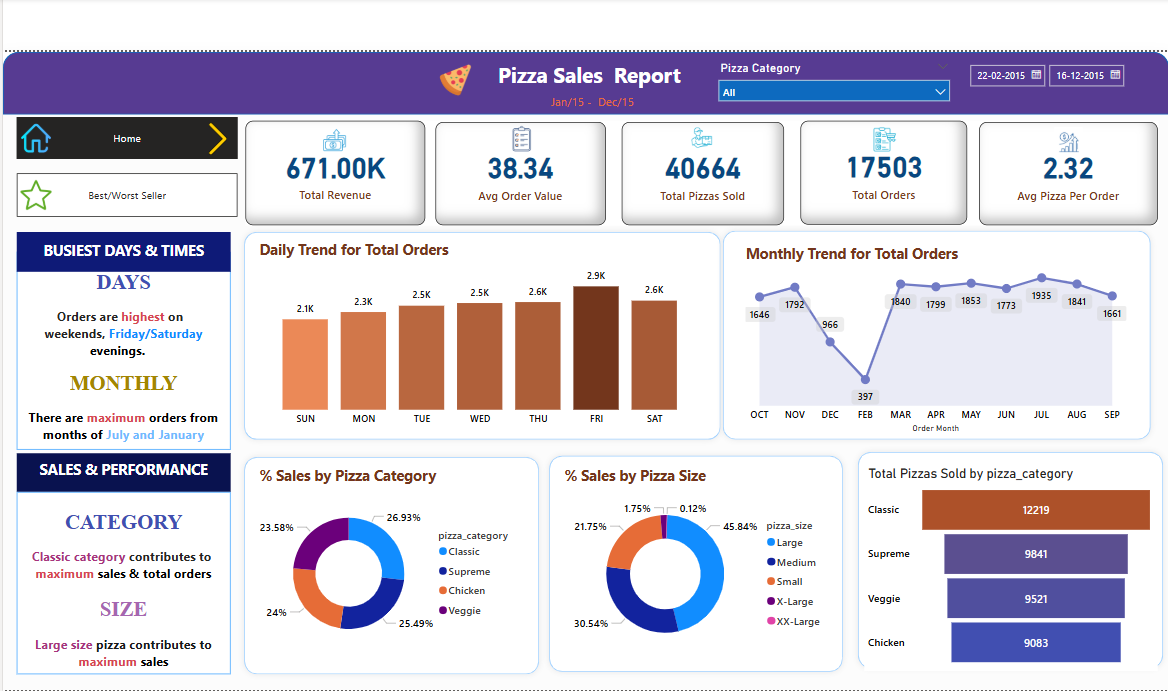

What the dashboard file says about the page in this screenshot:
{"tool":"powerbi","page":{"name":"Home","canvas":[1500,820],"ordinal":0},"visuals":[{"type":"card","fields":{"Values":["pizza_sales.Total Revenue"]},"box":[312,89,231.4,134.5],"z":0,"group":"g1"},{"type":"group","id":"g1","title":"Group 1","box":[312,88.4,1173.9,135.1],"z":0},{"type":"shape","box":[0,0,1500.3,80.4],"z":1000},{"type":"card","fields":{"Values":["pizza_sales.Avg Order Value"]},"box":[556.9,89.4,219.2,133],"z":1000,"group":"g1"},{"type":"card","fields":{"Values":["pizza_sales.Total Pizzas Sold"]},"box":[796.4,89.4,209,133],"z":2000,"group":"g1"},{"type":"image","box":[395.6,91.7,62.7,43.4],"z":2000},{"type":"card","fields":{"Values":["pizza_sales.Avg Pizza Per Order"]},"box":[1256.6,89.4,229.3,133],"z":3000,"group":"g1"},{"type":"image","box":[1104.7,91.7,59.5,41.8],"z":3000},{"type":"card","fields":{"Values":["pizza_sales.Total Orders"]},"box":[1026.6,88.4,214.4,133.6],"z":4000,"group":"g1"},{"type":"image","box":[873.2,91.7,51.5,37],"z":4000},{"type":"image","box":[636.8,90.1,61.1,43.4],"z":5000},{"type":"image","box":[1342.7,91.7,56.3,46.6],"z":6000},{"type":"shape","box":[302.3,223.5,628.8,283],"z":7000},{"type":"columnChart","title":"Daily Trend for Total Orders","fields":{"Category":["pizza_sales.Order Day"],"Y":["pizza_sales.Total Orders"]},"box":[324.8,241.2,578.9,249.3],"z":8000},{"type":"shape","box":[918.2,221.9,566,284.6],"z":9000},{"type":"areaChart","title":"Monthly Trend for Total Orders","fields":{"Category":["pizza_sales.Order Month"],"Y":["pizza_sales.Total Orders"]},"box":[950.4,246,500.1,249.3],"z":10000},{"type":"shape","box":[302.3,513,395.6,295.9],"z":11000},{"type":"donutChart","title":"% Sales by Pizza Category","fields":{"Category":["pizza_sales.pizza_category"],"Y":["pizza_sales.Total Revenue"]},"box":[324.8,532.3,352.2,252.5],"z":12000},{"type":"shape","box":[694.7,511.4,394,294.3],"z":13000},{"type":"shape","box":[1091.9,506.5,408.4,294.3],"z":14000},{"type":"textbox","box":[17.7,257.3,275,254.1],"z":15000},{"type":"donutChart","title":"% Sales by Pizza Size","fields":{"Y":["pizza_sales.Total Revenue"],"Category":["pizza_sales.pizza_size"]},"box":[717.2,532.3,352.2,254.1],"z":16000},{"type":"funnel","fields":{"Category":["pizza_sales.pizza_category"],"Y":["pizza_sales.Total Pizzas Sold"]},"box":[1108,532.3,377.9,263.7],"z":17000},{"type":"textbox","box":[17.7,566,275,234.8],"z":18000},{"type":"textbox","box":[17.7,231.6,275,51.5],"z":19000},{"type":"textbox","box":[17.7,516.2,275,49.9],"z":20000},{"type":"slicer","fields":{"Values":["pizza_sales.pizza_category"]},"box":[910.2,6.4,318.4,67.5],"z":21000},{"type":"slicer","fields":{"Values":["pizza_sales.order_date"]},"box":[1231.8,6.4,254.1,67.5],"z":22000},{"type":"textbox","box":[617.5,6.4,273.4,61.1],"z":22001},{"type":"image","box":[556.4,8,51.5,56.3],"z":22002},{"type":"textbox","box":[667.3,48.2,181.7,32.2],"z":22003},{"type":"pageNavigator","box":[17.7,83.6,284.6,54.7],"z":22004},{"type":"pageNavigator","box":[17.7,156,284.6,56.3],"z":22005},{"type":"image","box":[250.9,83.6,51.5,56.3],"z":22006},{"type":"image","box":[17.7,86.8,49.9,48.2],"z":22007},{"type":"image","box":[17.7,156,49.9,56.3],"z":22008}]}

Visuals, with their boxes on the page's 1500x820 design canvas (x1, y1, x2, y2). These are canvas units, not pixel positions in the 1168x691 screenshot, which may show the page scaled, cropped or inside an application window:
card - pizza_sales.Total Revenue: left=312, top=89, right=543, bottom=224
"Group 1" group: left=312, top=88, right=1486, bottom=224
shape: left=0, top=0, right=1500, bottom=80
card - pizza_sales.Avg Order Value: left=557, top=89, right=776, bottom=222
card - pizza_sales.Total Pizzas Sold: left=796, top=89, right=1005, bottom=222
image: left=396, top=92, right=458, bottom=135
card - pizza_sales.Avg Pizza Per Order: left=1257, top=89, right=1486, bottom=222
image: left=1105, top=92, right=1164, bottom=134
card - pizza_sales.Total Orders: left=1027, top=88, right=1241, bottom=222
image: left=873, top=92, right=925, bottom=129
image: left=637, top=90, right=698, bottom=134
image: left=1343, top=92, right=1399, bottom=138
shape: left=302, top=224, right=931, bottom=506
"Daily Trend for Total Orders" columnChart: left=325, top=241, right=904, bottom=490
shape: left=918, top=222, right=1484, bottom=506
"Monthly Trend for Total Orders" areaChart: left=950, top=246, right=1450, bottom=495
shape: left=302, top=513, right=698, bottom=809
"% Sales by Pizza Category" donutChart: left=325, top=532, right=677, bottom=785
shape: left=695, top=511, right=1089, bottom=806
shape: left=1092, top=506, right=1500, bottom=801
textbox: left=18, top=257, right=293, bottom=511
"% Sales by Pizza Size" donutChart: left=717, top=532, right=1069, bottom=786
funnel - pizza_sales.pizza_category x pizza_sales.Total Pizzas Sold: left=1108, top=532, right=1486, bottom=796
textbox: left=18, top=566, right=293, bottom=801
textbox: left=18, top=232, right=293, bottom=283
textbox: left=18, top=516, right=293, bottom=566
slicer - pizza_sales.pizza_category: left=910, top=6, right=1229, bottom=74
slicer - pizza_sales.order_date: left=1232, top=6, right=1486, bottom=74
textbox: left=618, top=6, right=891, bottom=68
image: left=556, top=8, right=608, bottom=64
textbox: left=667, top=48, right=849, bottom=80
pageNavigator: left=18, top=84, right=302, bottom=138
pageNavigator: left=18, top=156, right=302, bottom=212
image: left=251, top=84, right=302, bottom=140
image: left=18, top=87, right=68, bottom=135
image: left=18, top=156, right=68, bottom=212
